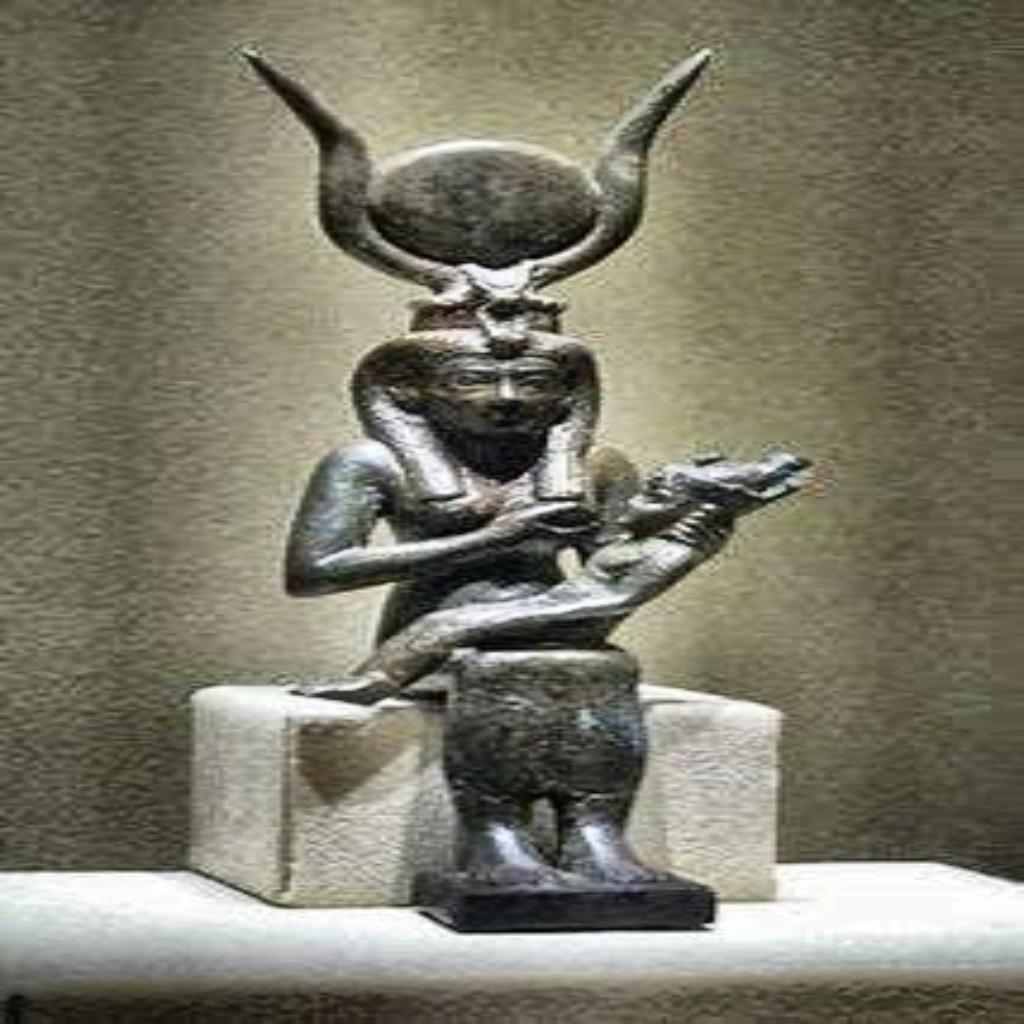Isis with her child: (210, 38, 824, 933)
